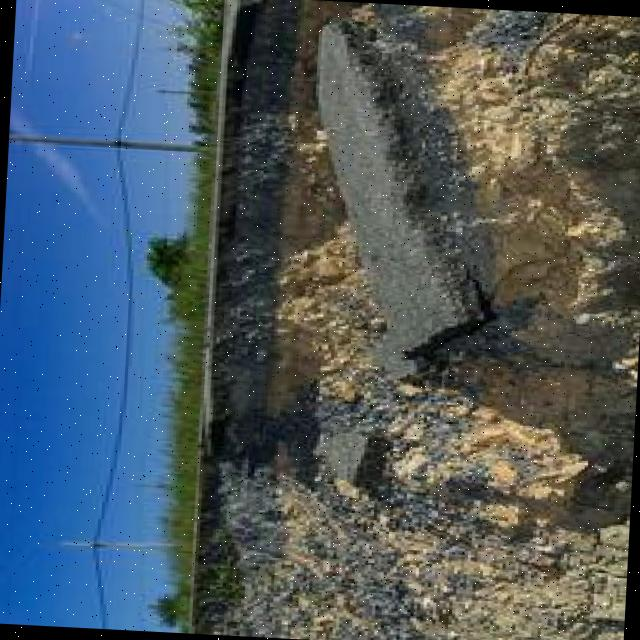road collapse: (181, 28, 640, 640)
